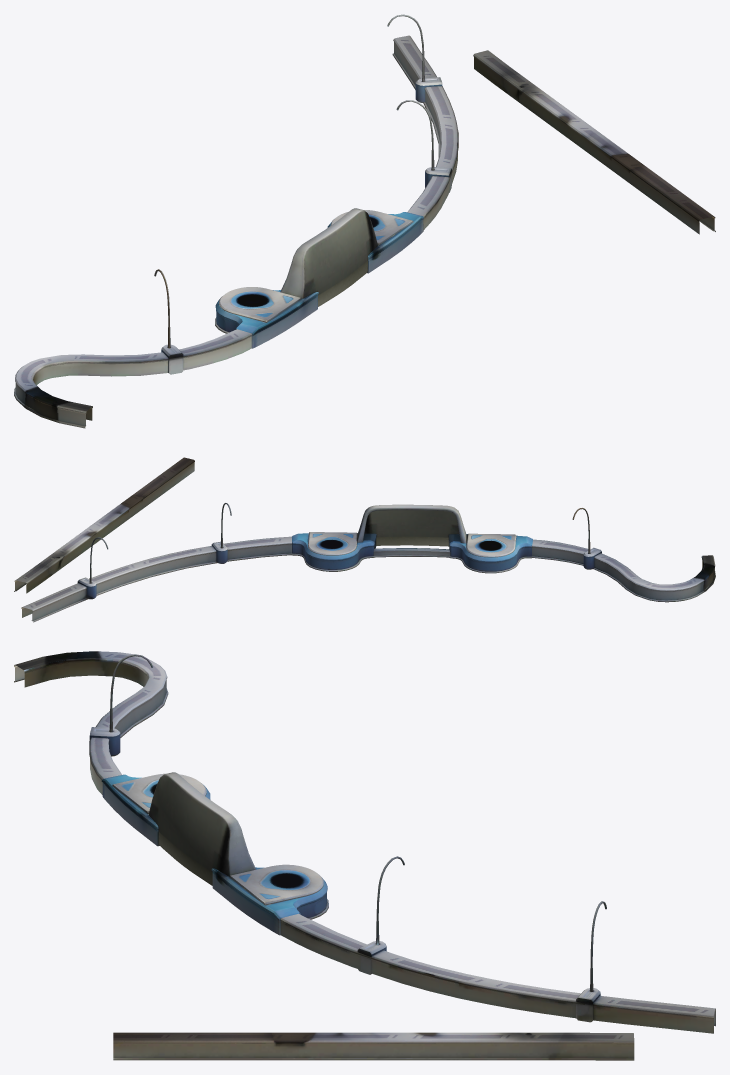
The model's file is pref_sm_4v4beachtech_bk_topblock_L01a_lv2.fbx.
The picture shows the model from 3 angles, top to bottom: view 1: azimuth 30°, elevation 25°; view 2: azimuth 150°, elevation 25°; view 3: azimuth 270°, elevation 25°; orthographic projection. The views are drawn at different scales.
Visible parts, largest first — view 1: pref_sm_4v4beachtech_bk_topblock_L01a_lv2; view 2: pref_sm_4v4beachtech_bk_topblock_L01a_lv2; view 3: pref_sm_4v4beachtech_bk_topblock_L01a_lv2.
Boxes of the visible parts, x1,y1,x2,y2 form: pref_sm_4v4beachtech_bk_topblock_L01a_lv2: (14,14,715,428); pref_sm_4v4beachtech_bk_topblock_L01a_lv2: (14,457,715,622); pref_sm_4v4beachtech_bk_topblock_L01a_lv2: (14,651,715,1060).
Bounding box in the file's own units: 42.31 × 5.07 × 32.04.
1 material, 1 textured.
